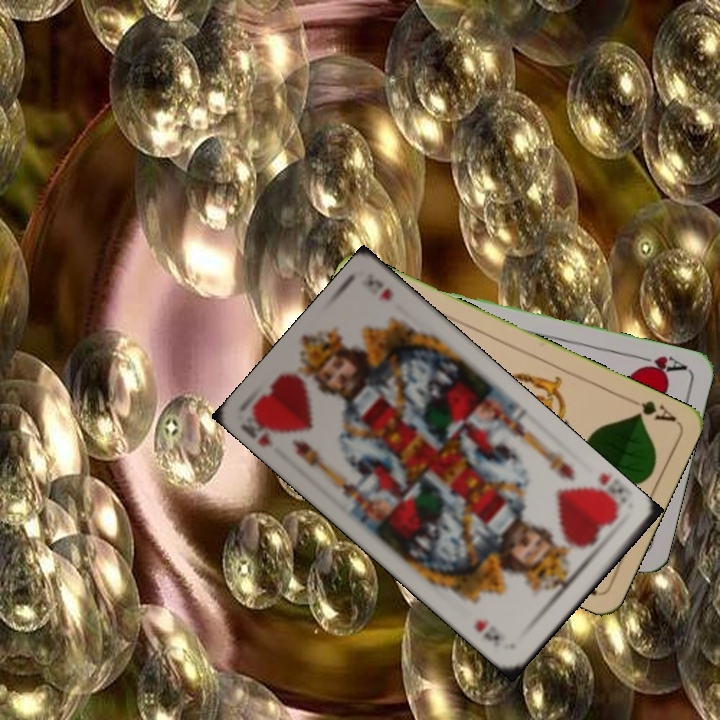GA: (622, 393, 679, 425)
HA: (630, 350, 689, 379)
HK: (586, 469, 622, 514), (237, 420, 276, 450)
